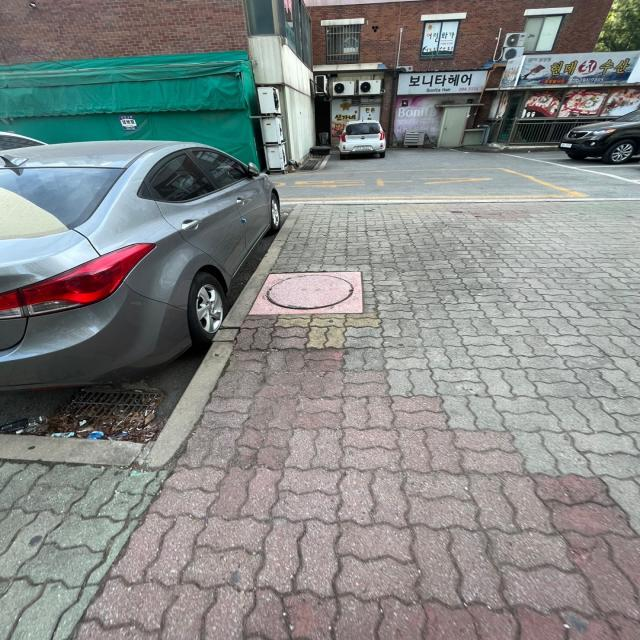Sewer Cover: (250, 260, 378, 333)
